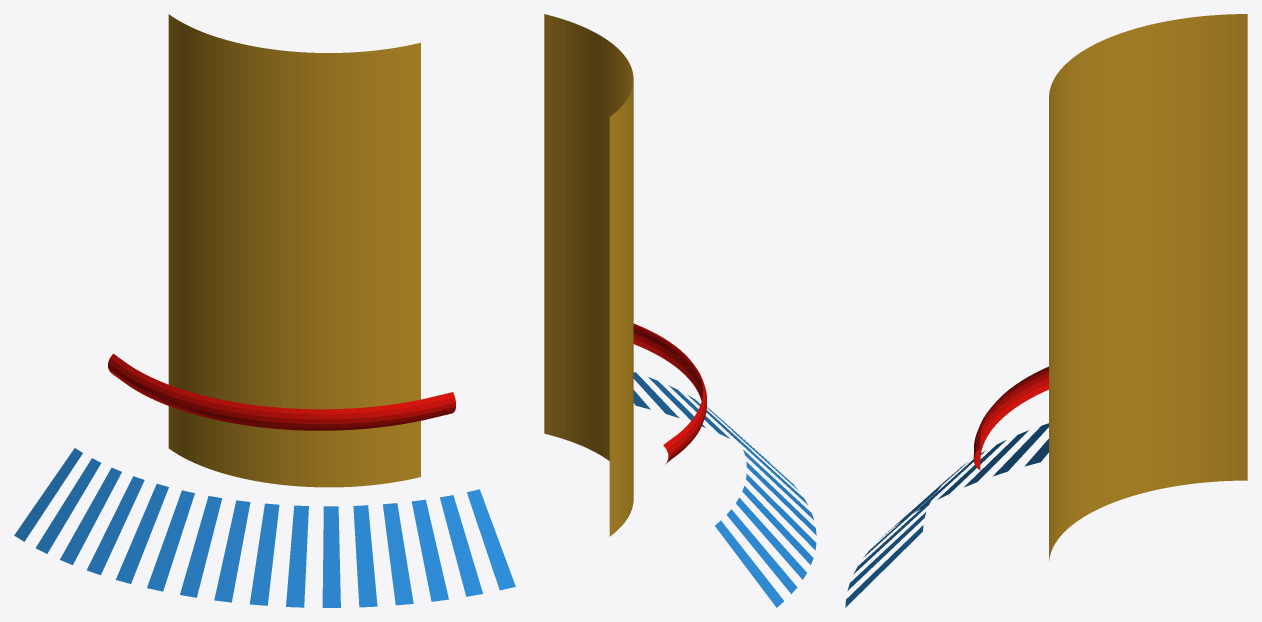
The model's file is powersourcechangeAndyemissive.fbx.
The picture shows the model from 3 angles, left to right: view 1: azimuth 30°, elevation 25°; view 2: azimuth 150°, elevation 25°; view 3: azimuth 270°, elevation 25°; orthographic projection. The views are drawn at different scales.
Visible parts, largest first — view 1: Poweremissive; view 2: Poweremissive; view 3: Poweremissive.
Part boxes in pixels (bbox=[...]): Poweremissive: bbox=[14, 14, 515, 607]; Poweremissive: bbox=[544, 14, 816, 607]; Poweremissive: bbox=[845, 14, 1247, 607].
Size of the model in its own units: 1647 by 2308 by 1649.
